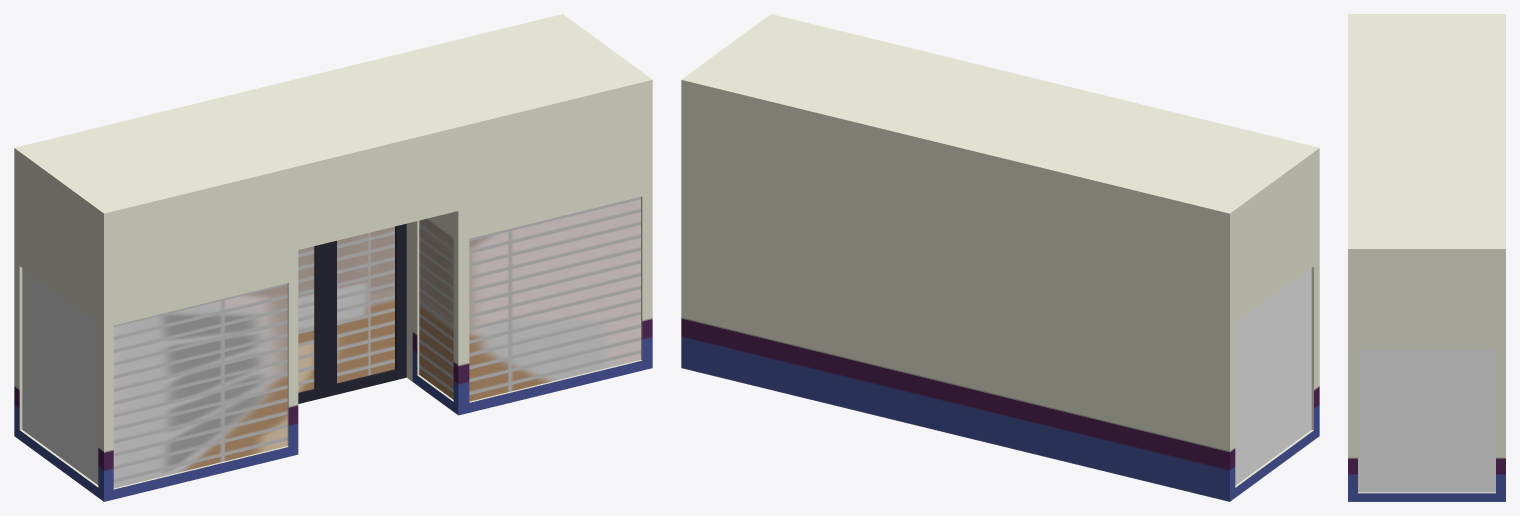
The model's file is StoreFront_Model.fbx.
3 views of the same model, side by side, from view 1: azimuth 30°, elevation 25°; view 2: azimuth 150°, elevation 25°; view 3: azimuth 270°, elevation 25° (orthographic). The views are drawn at different scales.
Visible parts, largest first — view 1: pCube1; view 2: pCube1; view 3: pCube1.
Part boxes in pixels (x1,y1,x2,y2): pCube1: (14,14,652,501); pCube1: (681,14,1319,501); pCube1: (1348,14,1505,501).
Bounding box in the file's own units: 13.9 × 6.98 × 3.94.
Materials: 1 (1 with a texture image).
